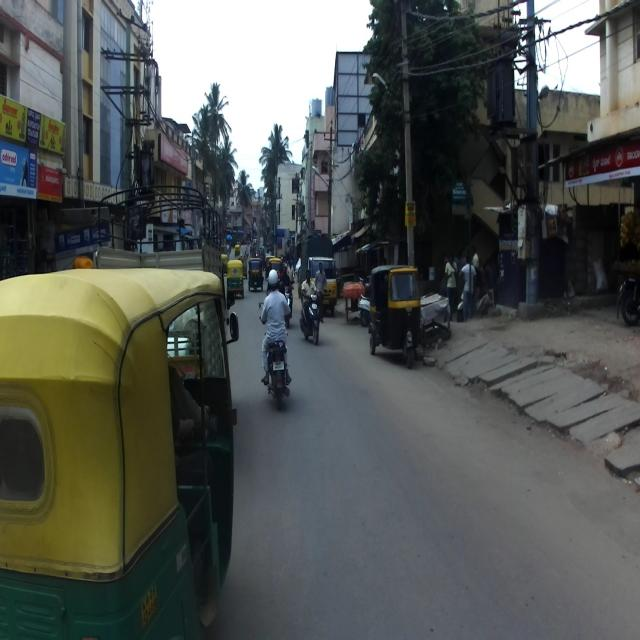autorickshaw: (0, 266, 239, 638), (367, 265, 422, 368), (226, 259, 244, 297), (248, 256, 264, 290), (268, 257, 283, 281)
motorcycle_Honda: (277, 278, 294, 328)
motorcycle_TVS: (255, 298, 299, 410)
scooter: (456, 280, 489, 323), (297, 292, 322, 344), (357, 292, 373, 327)
truck: (296, 237, 340, 317)
